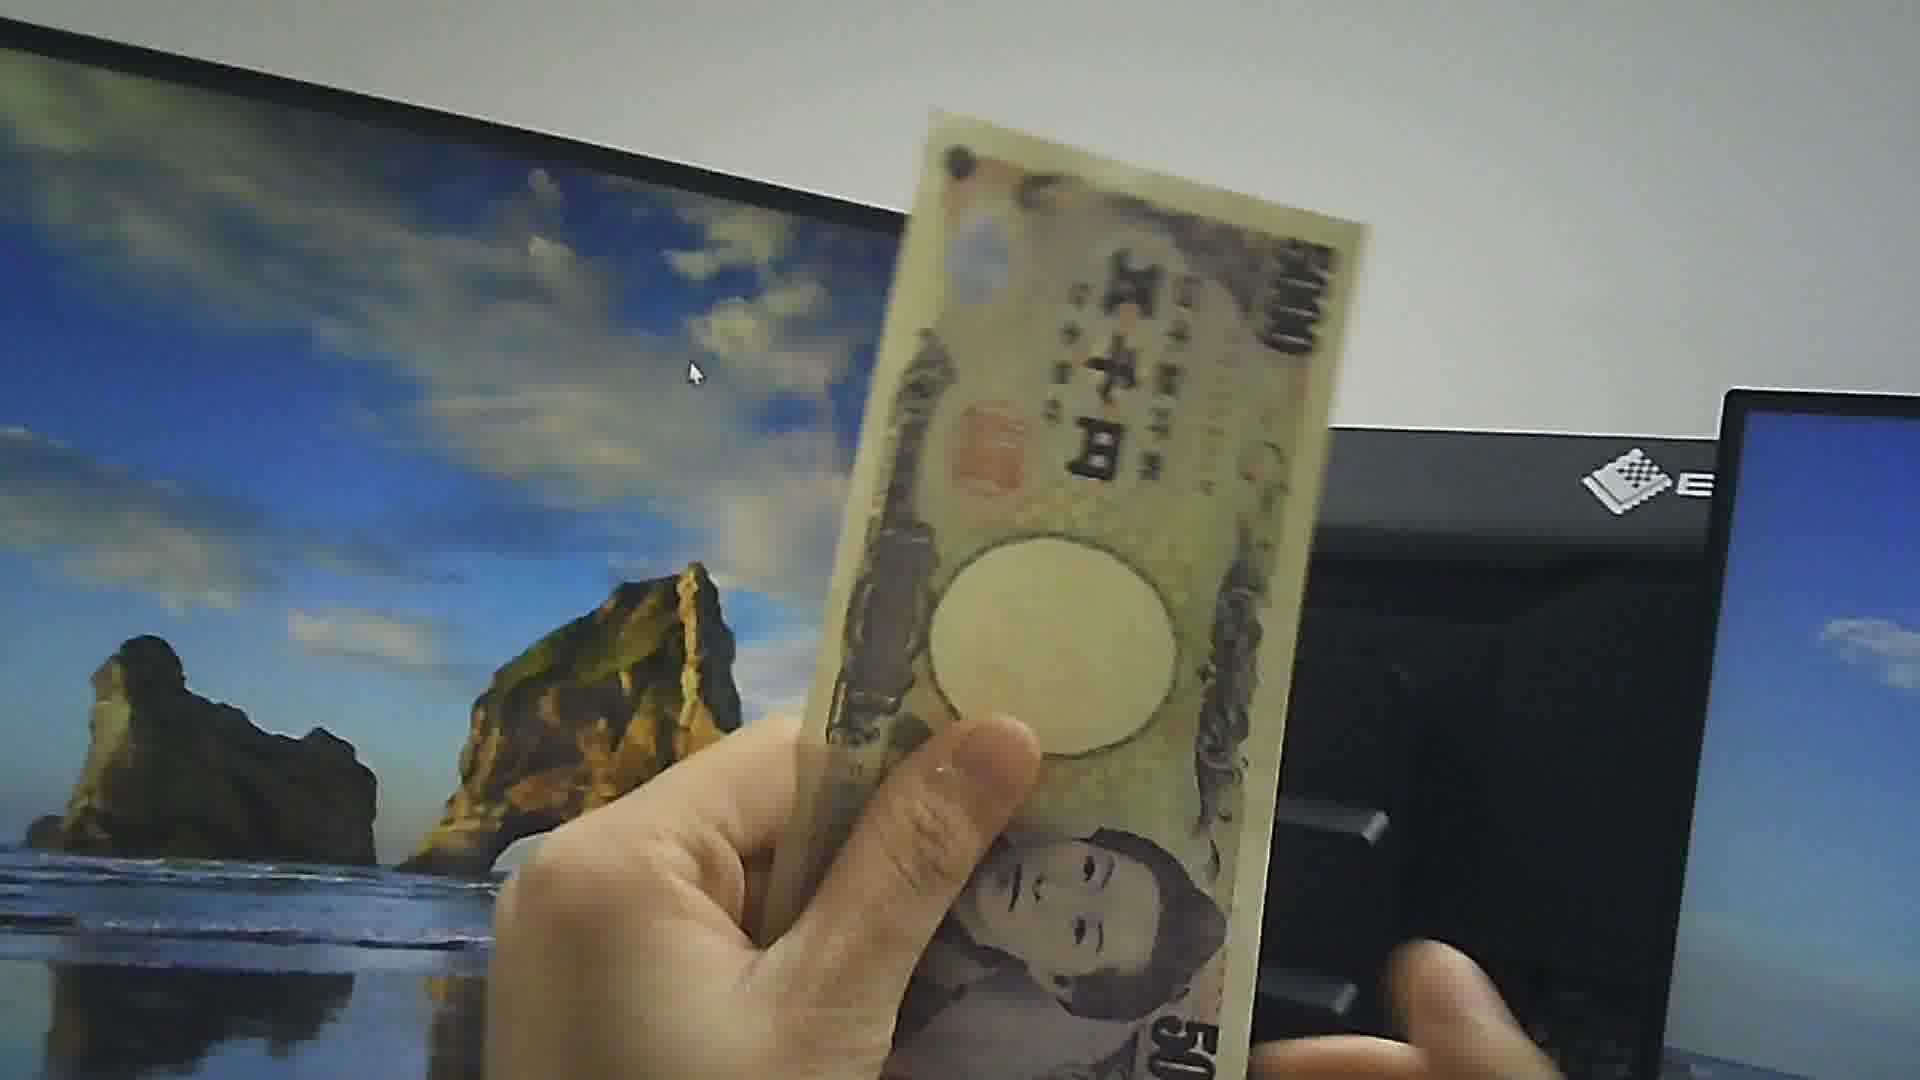5,000 Yen: (781, 95, 1375, 1079)
